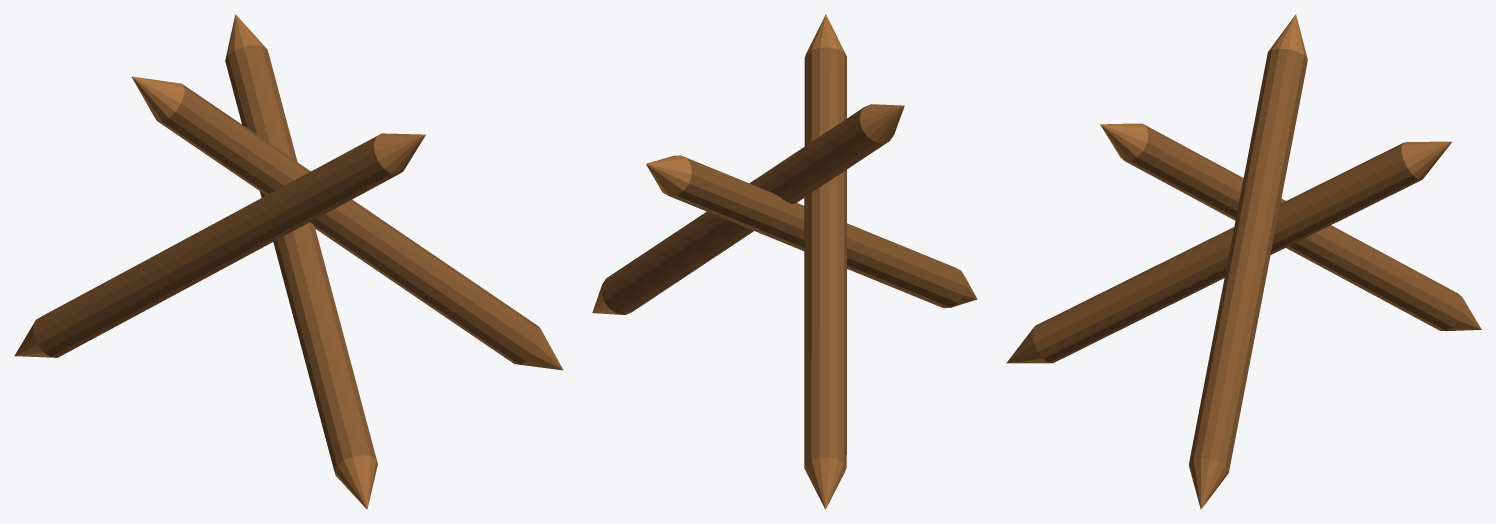
File: spikes.fbx
3 renders of one model, left to right at view 1: azimuth 30°, elevation 25°; view 2: azimuth 150°, elevation 25°; view 3: azimuth 270°, elevation 25°, orthographic. The views are drawn at different scales.
Visible parts, largest first — view 1: Cylinder; view 2: Cylinder; view 3: Cylinder.
Boxes of the visible parts, x1=… form: Cylinder: x1=14, y1=14, x2=563, y2=509; Cylinder: x1=592, y1=14, x2=977, y2=509; Cylinder: x1=1006, y1=14, x2=1481, y2=509.
Size of the model in its own units: 140 by 117 by 156.
